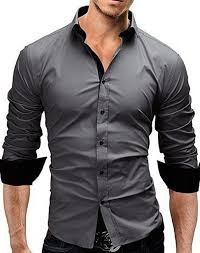Shirt: (6, 18, 200, 243)
